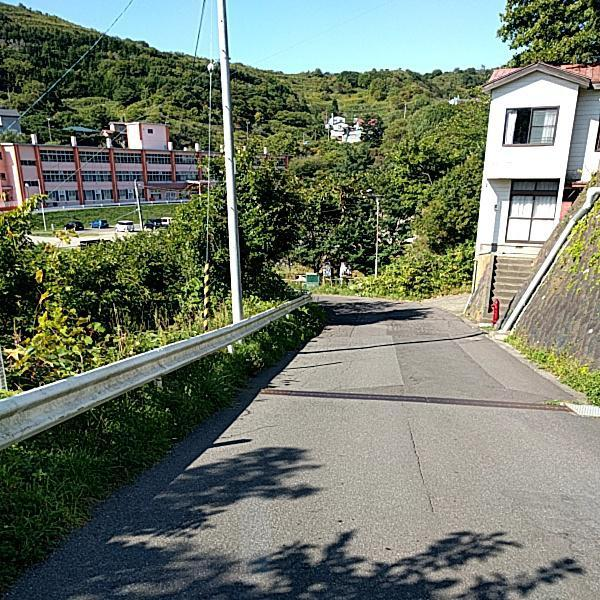D00: (397, 417, 438, 515)
